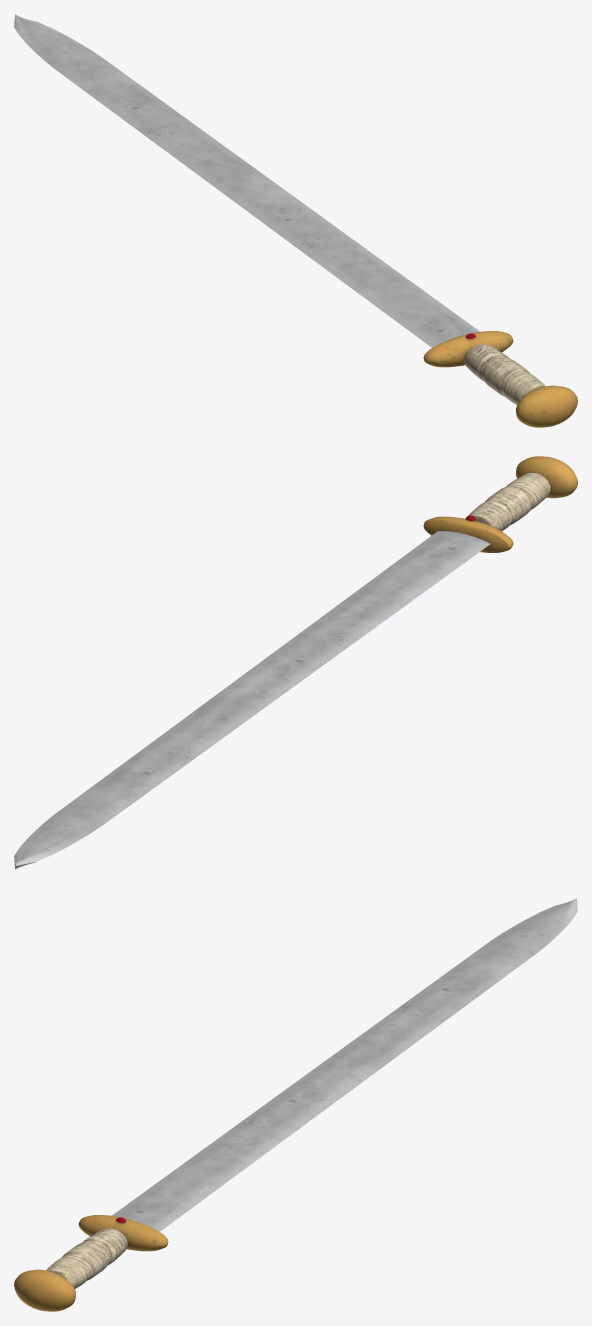
File: bosporan_sword.glb
3 renders of one model, top to bottom at view 1: azimuth 30°, elevation 25°; view 2: azimuth 150°, elevation 25°; view 3: azimuth 330°, elevation 25°, orthographic.
Visible parts, largest first — view 1: bosporan_sword; view 2: bosporan_sword; view 3: bosporan_sword.
Part boxes in pixels (box(x1,y1,x2,y2)): bosporan_sword: box(14, 14, 577, 427); bosporan_sword: box(14, 456, 577, 869); bosporan_sword: box(14, 898, 577, 1311).
Bounding box in the file's own units: 0.0833 × 0.0332 × 0.886.
Materials: 1 (1 with a texture image).
